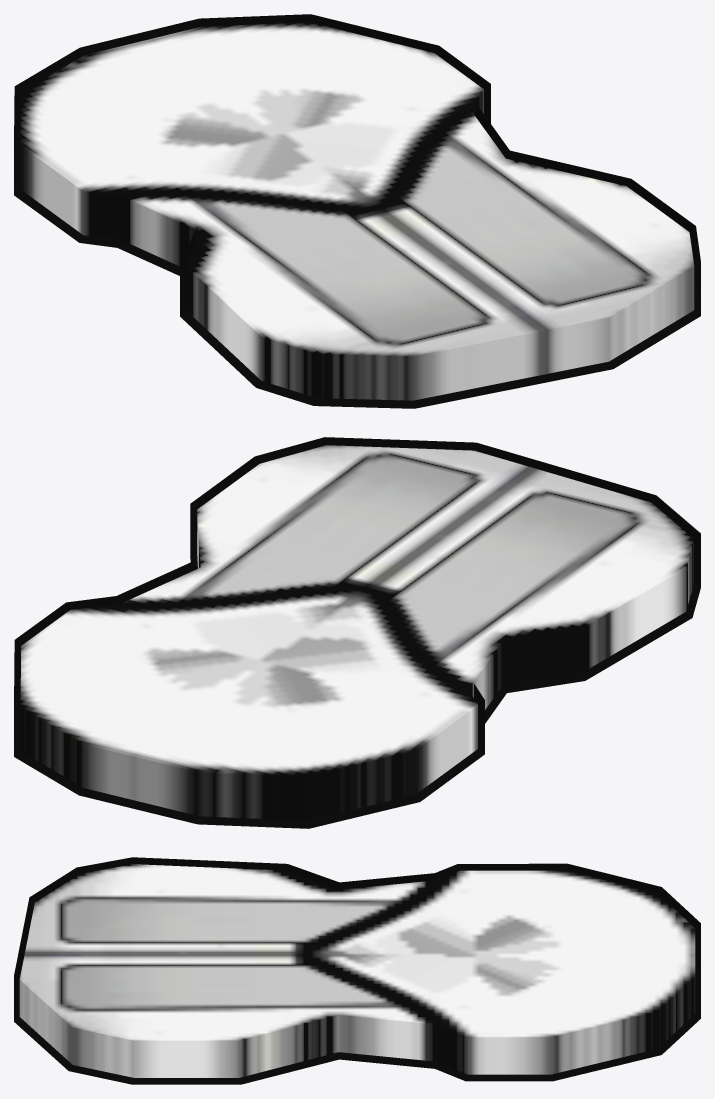
Rendered from Item_Apparel_FlakJacket_Things_Pawn_Humanlike_Apparel_FlakJacket_FlakJacket_female.glb.
The picture shows the model from 3 angles, top to bottom: view 1: azimuth 30°, elevation 25°; view 2: azimuth 150°, elevation 25°; view 3: azimuth 270°, elevation 25°; orthographic projection. The views are drawn at different scales.
Visible parts, largest first — view 1: Body, Outline; view 2: Body, Outline; view 3: Body, Outline.
Part boxes in pixels (x1,y1,x2,y2): Body: [20, 22, 694, 400]; Outline: [14, 14, 700, 408]; Body: [20, 445, 694, 820]; Outline: [14, 437, 700, 828]; Body: [19, 864, 695, 1077]; Outline: [14, 857, 700, 1084].
Bounding box in the file's own units: 0.4412 × 0.0551 × 0.7069.
2 materials, 1 textured.
